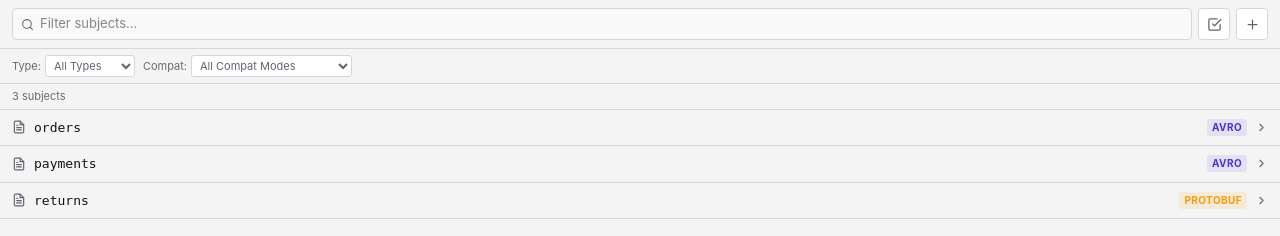
Test case: [@phase-12.6-schema-filter] SchemaList — type filter › applies AND logic: both type and compat must match
The image size is (1280, 236).
Select "AVRO" in the dropdown named "Filter by schema type" at (90, 66), box [45, 55, 135, 77]
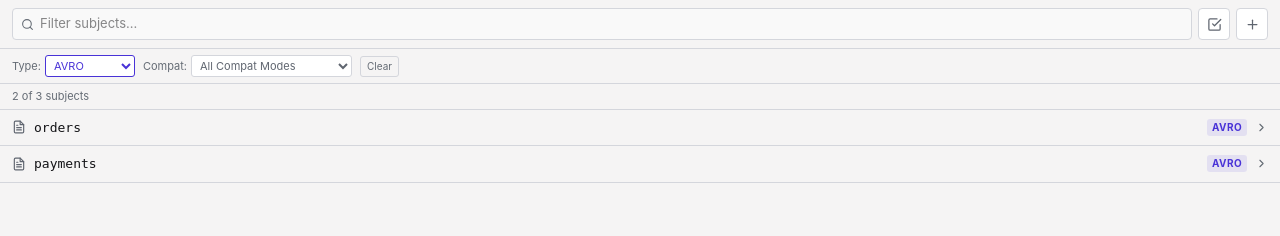
Select "BACKWARD" in the dropdown named "Filter by compatibility mode" at (272, 66), box [191, 55, 352, 77]
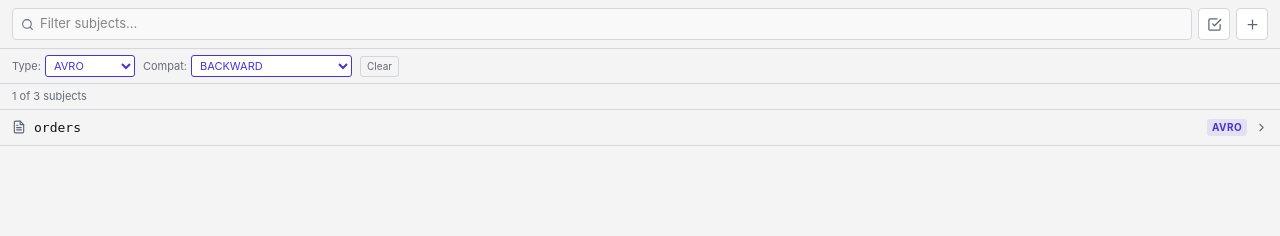
Expected: the text "orders" is shown, [34, 120, 81, 134]
Result: the text "payments" is gone
